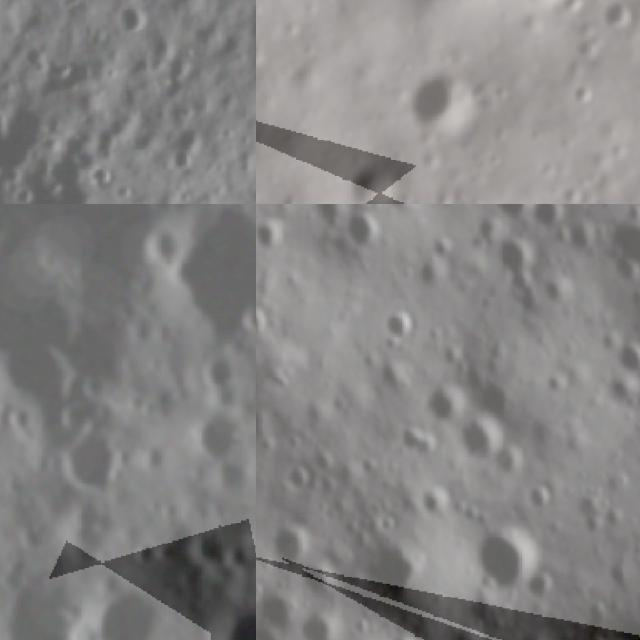crater: (159, 204, 256, 343), (0, 560, 103, 640), (63, 566, 171, 640), (46, 418, 132, 506), (474, 521, 548, 589), (185, 402, 253, 468), (410, 66, 476, 130), (368, 548, 439, 606), (30, 144, 93, 204), (196, 344, 256, 404), (129, 213, 188, 273), (0, 95, 55, 155), (161, 117, 209, 179), (182, 524, 236, 578), (202, 589, 256, 640), (53, 386, 99, 441), (458, 417, 509, 461), (424, 381, 470, 426), (343, 208, 388, 254), (608, 216, 640, 277), (160, 44, 198, 89), (301, 560, 344, 598), (496, 238, 538, 276), (272, 521, 308, 563), (384, 304, 421, 344), (115, 0, 151, 40), (357, 172, 402, 204), (1, 400, 36, 441), (493, 444, 529, 482), (524, 565, 560, 602), (282, 464, 316, 496), (300, 613, 340, 640), (256, 219, 286, 254), (534, 204, 574, 230), (604, 0, 635, 29), (527, 484, 558, 513), (0, 88, 13, 155), (617, 340, 640, 377), (491, 204, 534, 223), (0, 521, 11, 594), (256, 306, 272, 343), (360, 457, 382, 477), (387, 630, 420, 640)
